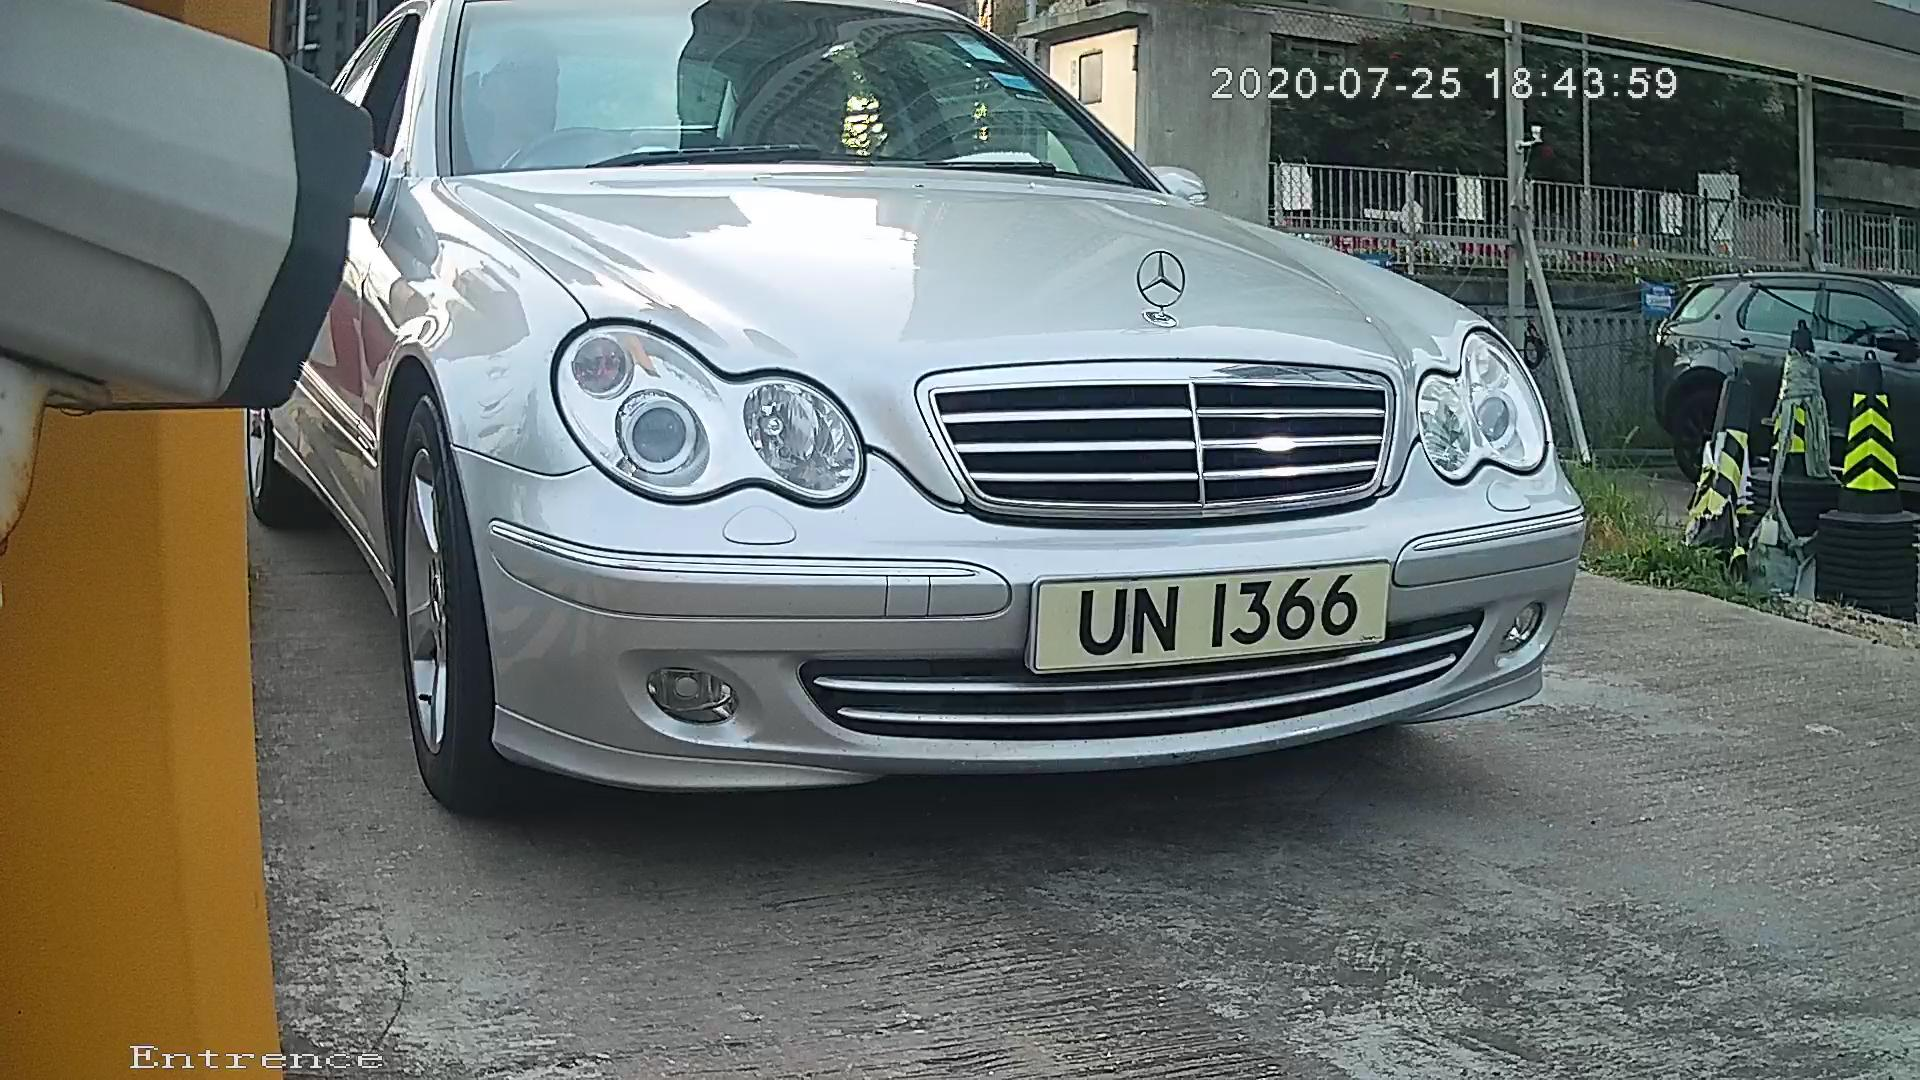License Plate: (1003, 545, 1415, 695)
